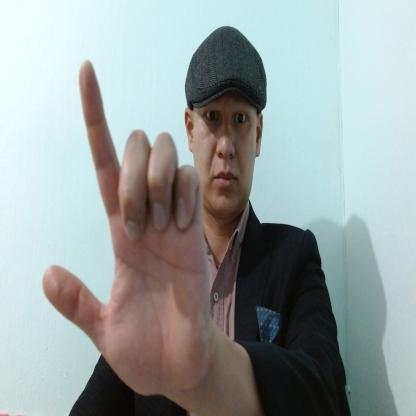L: (42, 60, 210, 394)
